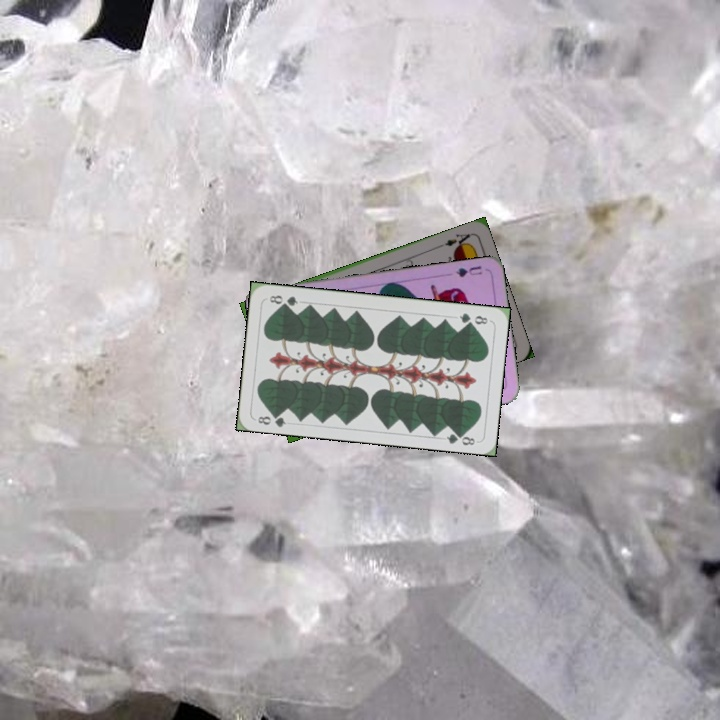EA: (441, 229, 474, 251)
G8: (253, 409, 289, 430), (455, 309, 490, 327)
GU: (452, 262, 484, 280)
